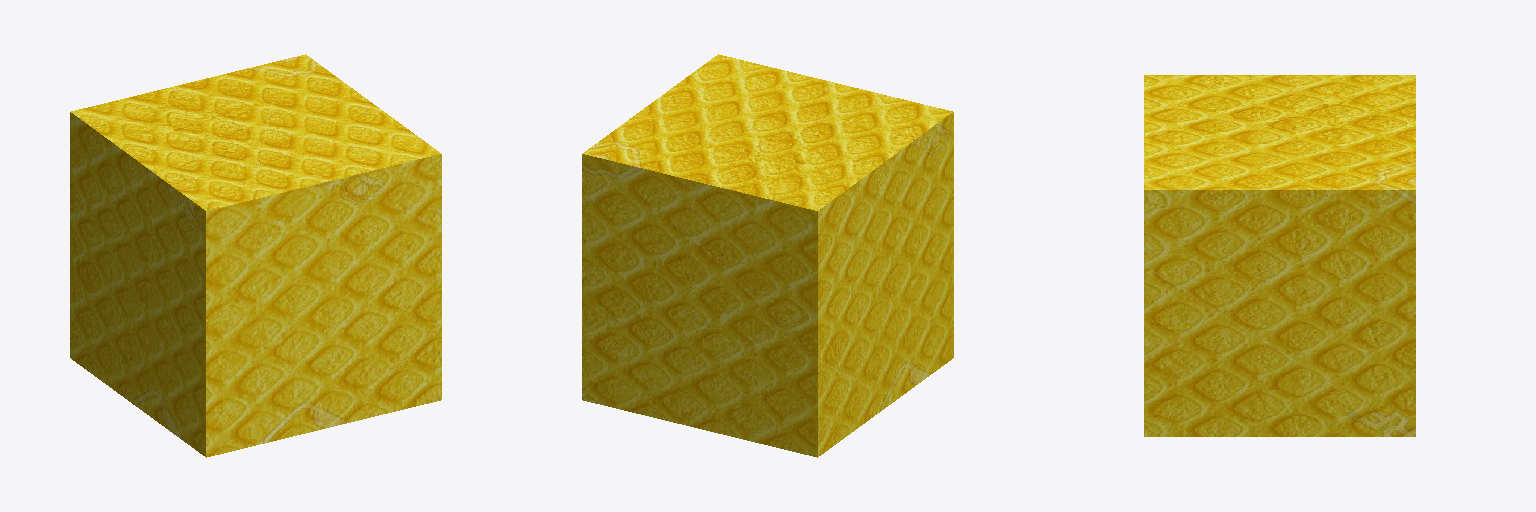
The picture shows the model from 3 angles: view 1: azimuth 30°, elevation 25°; view 2: azimuth 150°, elevation 25°; view 3: azimuth 270°, elevation 25°; orthographic projection.
Visible parts, largest first — view 1: Cube; view 2: Cube; view 3: Cube.
Part boxes in pixels (x1,y1,x2,y2): Cube: (70, 54, 441, 457); Cube: (582, 54, 953, 457); Cube: (1144, 75, 1415, 436).
Bounding box in the file's own units: 2 × 2 × 2.
1 materials, 1 textured.